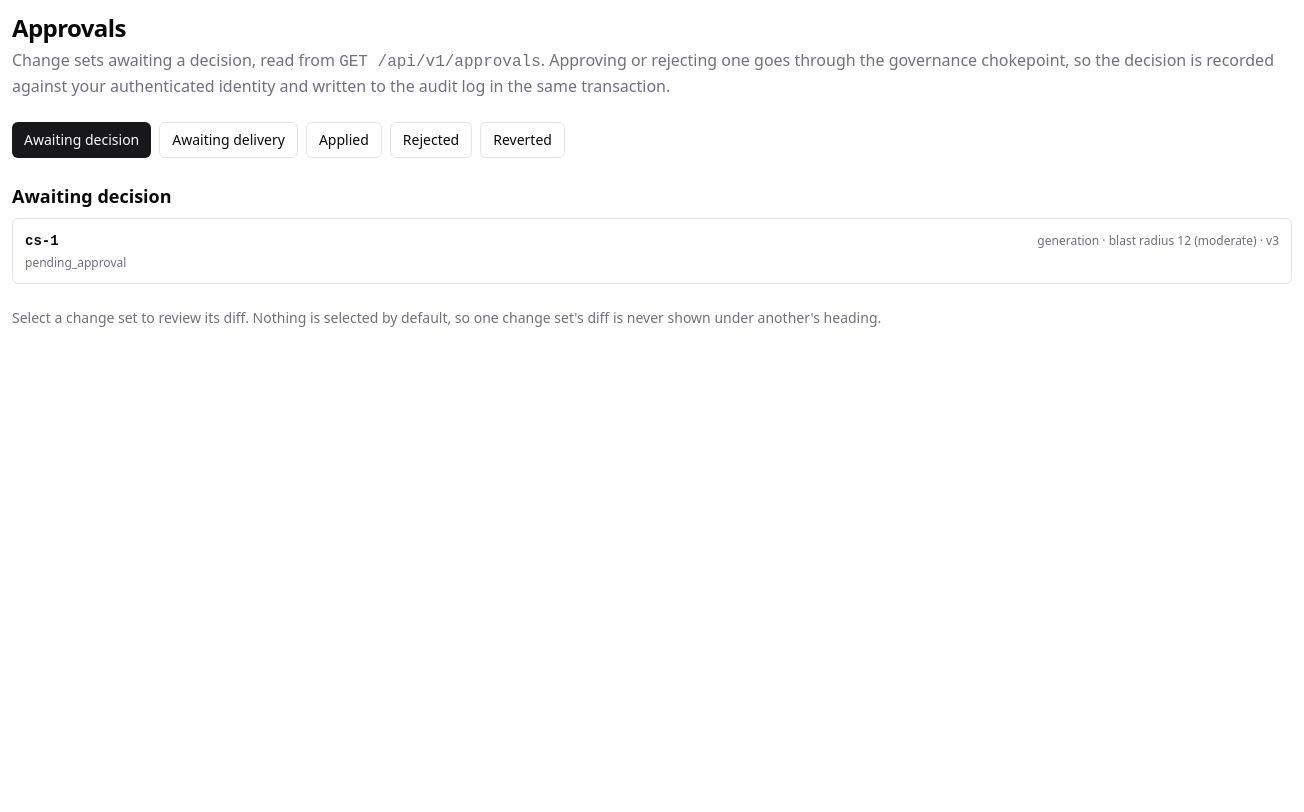
Test: Approvals renders a real diff and submits a real decision › offers both view modes and switches between them
The width and height of the screenshot is (1304, 812).
Click the button "cs-1" at (42, 241), box left=12, top=218, right=1292, bottom=284
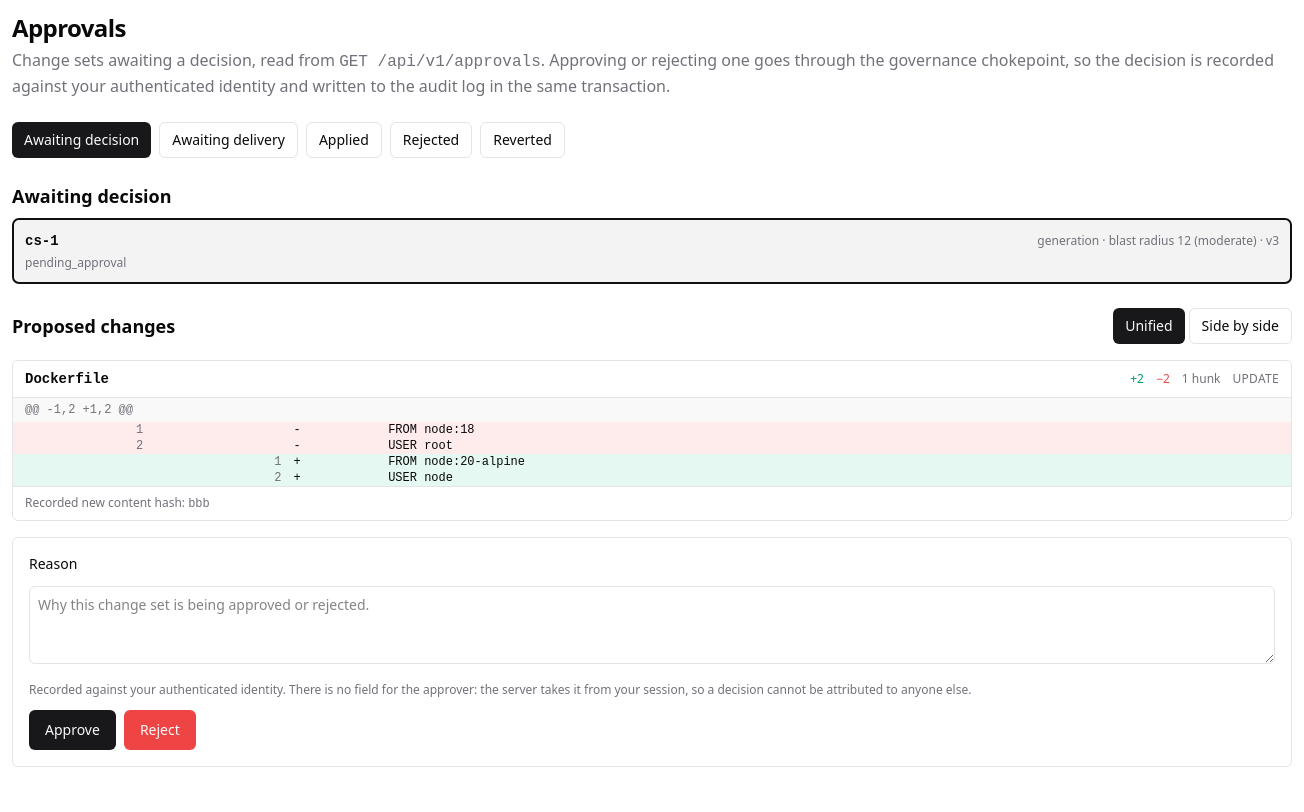
Click the button "Side by side" at (1240, 326), box left=1189, top=308, right=1292, bottom=344
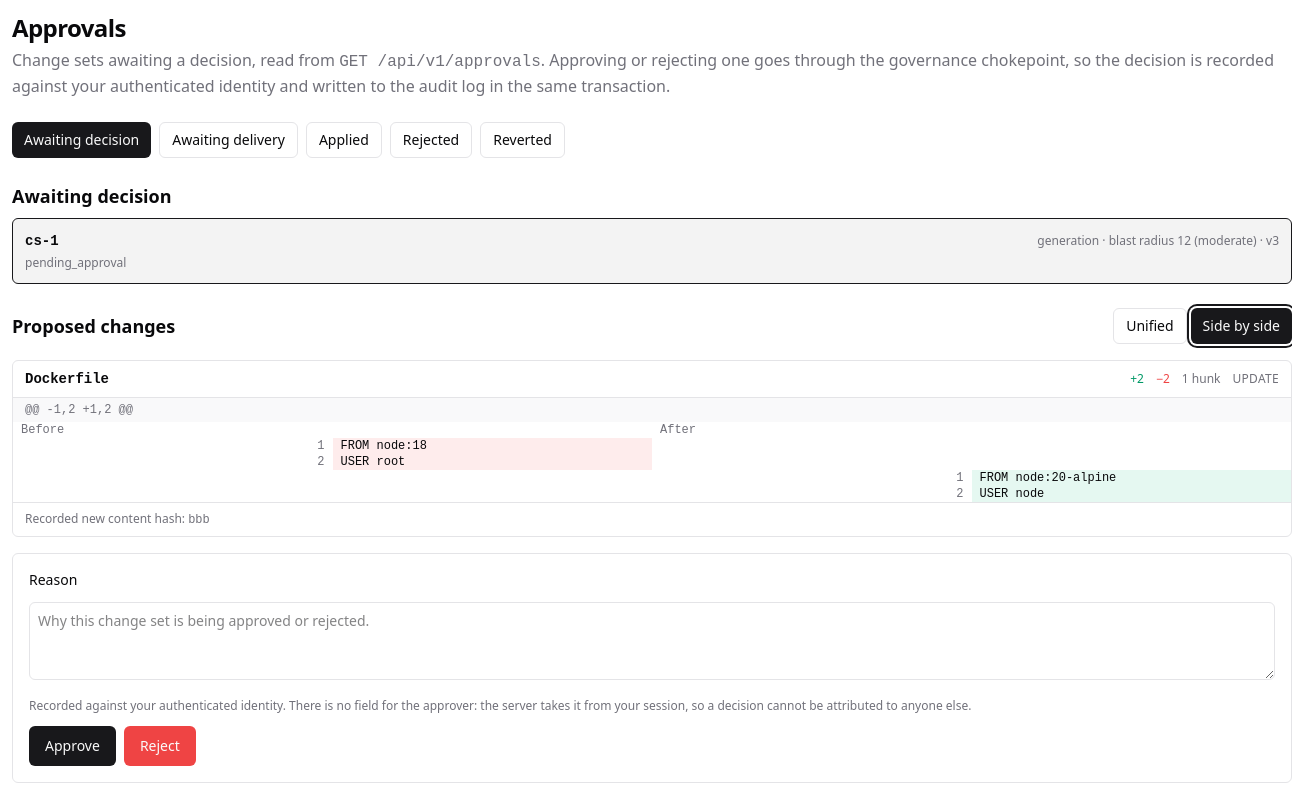
Now the column heading "Before" is shown, box left=13, top=422, right=652, bottom=438
Now the column heading "After" is shown, box left=652, top=422, right=1291, bottom=438
